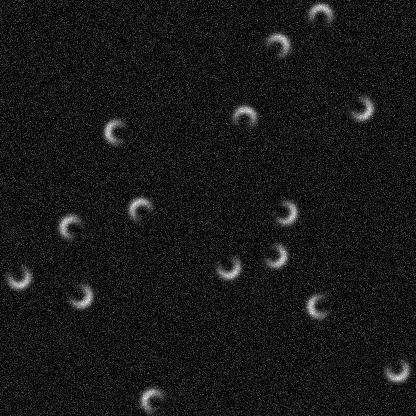Janus: (261, 30, 291, 60), (345, 92, 375, 122), (56, 212, 86, 242), (101, 116, 131, 146), (3, 260, 33, 290), (381, 353, 411, 383), (64, 280, 94, 310), (126, 195, 156, 225), (212, 251, 242, 281), (138, 385, 168, 415), (304, 291, 334, 321), (259, 240, 289, 270), (269, 197, 299, 227), (229, 103, 259, 133), (305, 1, 335, 31)
